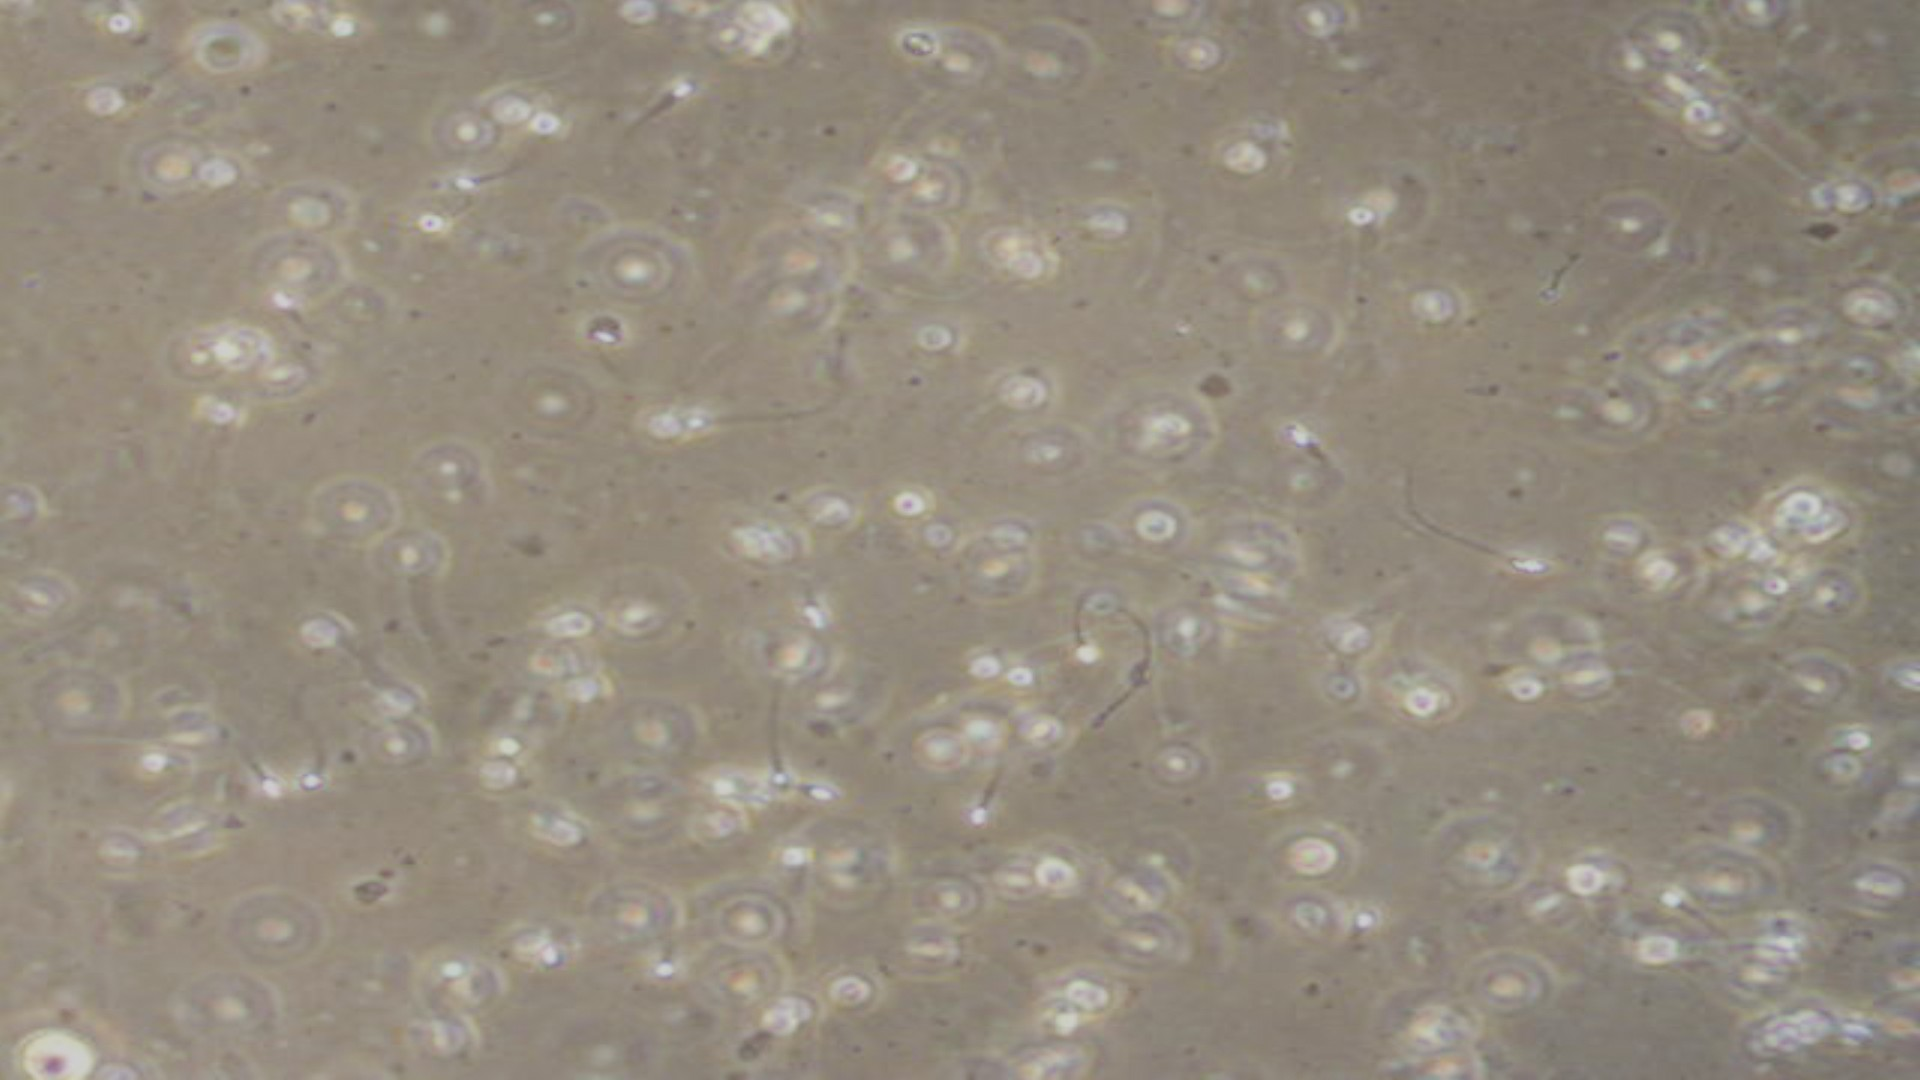sperm: (1407, 502, 1549, 584), (1064, 578, 1149, 667), (425, 150, 554, 200), (686, 384, 808, 436), (1282, 425, 1357, 506), (621, 78, 702, 136), (760, 694, 804, 796), (233, 731, 284, 818), (965, 761, 1021, 832), (265, 291, 336, 345), (1659, 876, 1727, 931), (287, 721, 331, 803), (782, 771, 868, 804)
